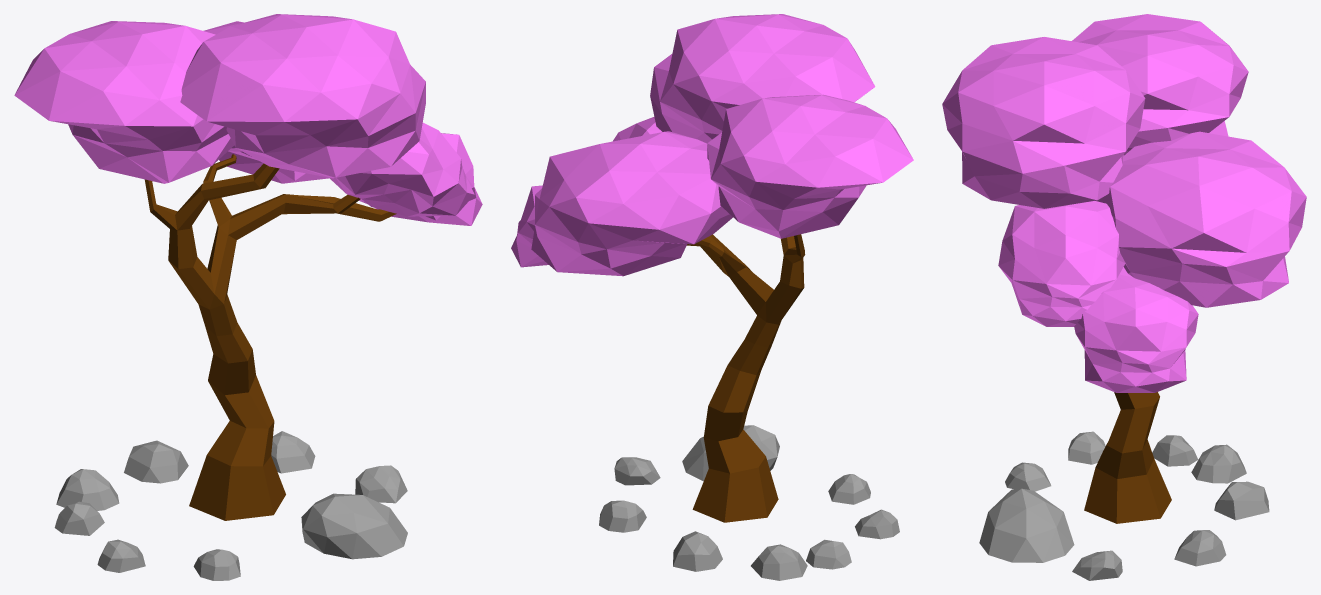
Rendered from arbol_tipo_2.fbx.
The picture shows the model from 3 angles, left to right: view 1: azimuth 30°, elevation 25°; view 2: azimuth 150°, elevation 25°; view 3: azimuth 270°, elevation 25°; orthographic projection. The views are drawn at different scales.
Parts seen in each view (by area): view 1: hojas, tronco, rocas; view 2: hojas, tronco, rocas; view 3: hojas, rocas, tronco.
Boxes of the visible parts, x1,y1,x2,y2 form: hojas: [14, 14, 482, 225]; tronco: [144, 154, 396, 520]; rocas: [54, 431, 407, 580]; hojas: [511, 14, 913, 276]; tronco: [687, 234, 805, 522]; rocas: [599, 425, 899, 580]; hojas: [942, 14, 1306, 392]; rocas: [979, 431, 1269, 580]; tronco: [1084, 392, 1171, 523].
Size of the model in its own units: 171 by 194 by 138.
